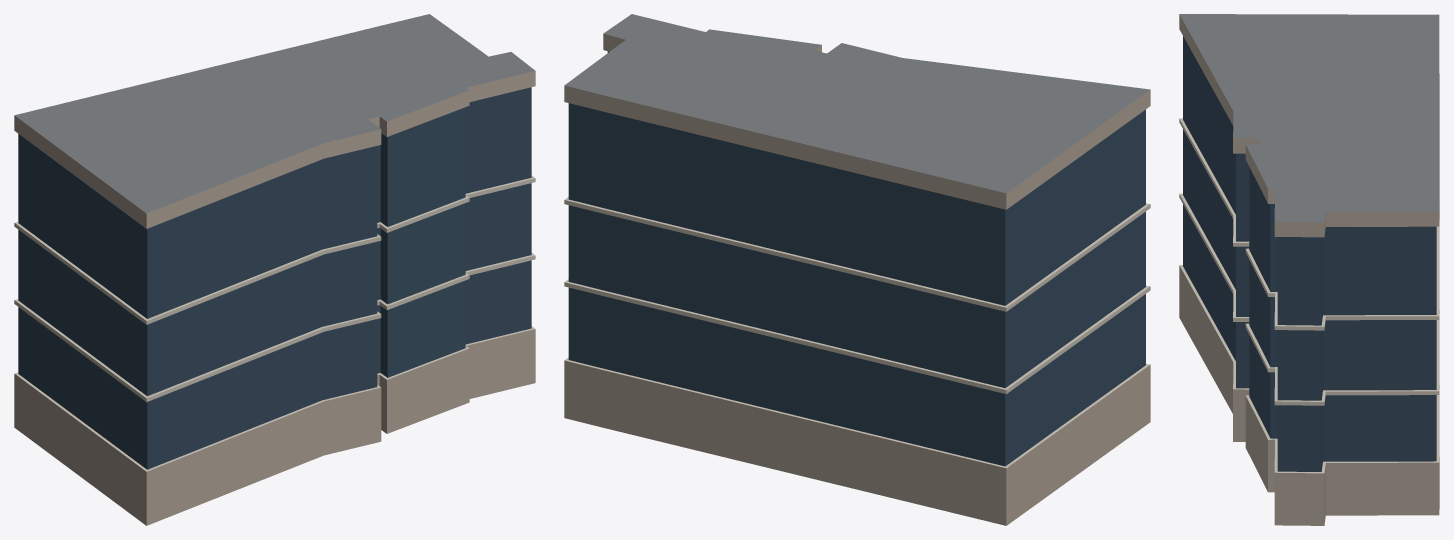
The model's file is bldg_w1147771471.glb.
3 renders of one model, left to right at view 1: azimuth 30°, elevation 25°; view 2: azimuth 150°, elevation 25°; view 3: azimuth 270°, elevation 25°, orthographic. The views are drawn at different scales.
Visible parts, largest first — view 1: Bldg_W1147771471; view 2: Bldg_W1147771471; view 3: Bldg_W1147771471.
Boxes of the visible parts, left/top/right/bottom form: Bldg_W1147771471: left=14, top=14, right=535, bottom=525; Bldg_W1147771471: left=564, top=14, right=1150, bottom=525; Bldg_W1147771471: left=1179, top=14, right=1439, bottom=525.
Bounding box in the file's own units: 59.47 × 40.4 × 31.41.
